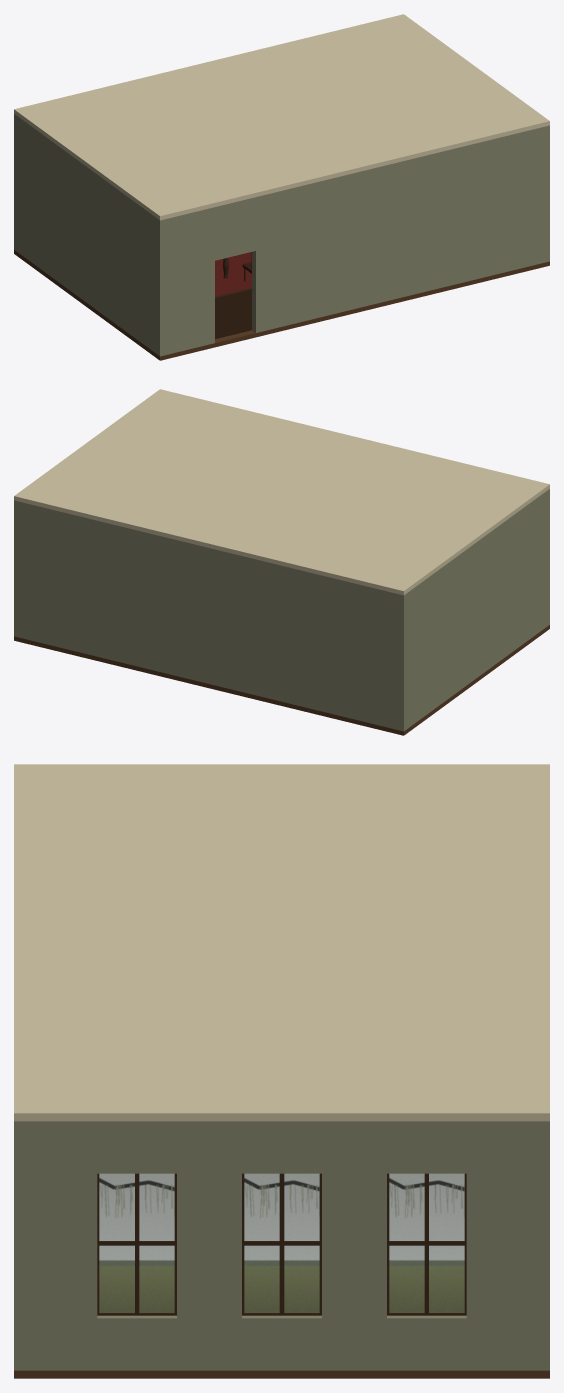
Rendered from meeting_room.glb.
3 views of the same model, one above another, from view 1: azimuth 30°, elevation 25°; view 2: azimuth 150°, elevation 25°; view 3: azimuth 270°, elevation 25° (orthographic). The views are drawn at different scales.
Parts seen in each view (by area): view 1: Room-col, Rug; view 2: Room-col; view 3: Room-col.
Boxes of the visible parts, x1,y1,x2,y2 form: Room-col: (14, 14, 549, 360); Rug: (215, 252, 251, 296); Room-col: (14, 389, 549, 735); Room-col: (14, 764, 549, 1378).
Size of the model in its own units: 11.4 by 4.04 by 7.4.
21 materials, 2 textured.
